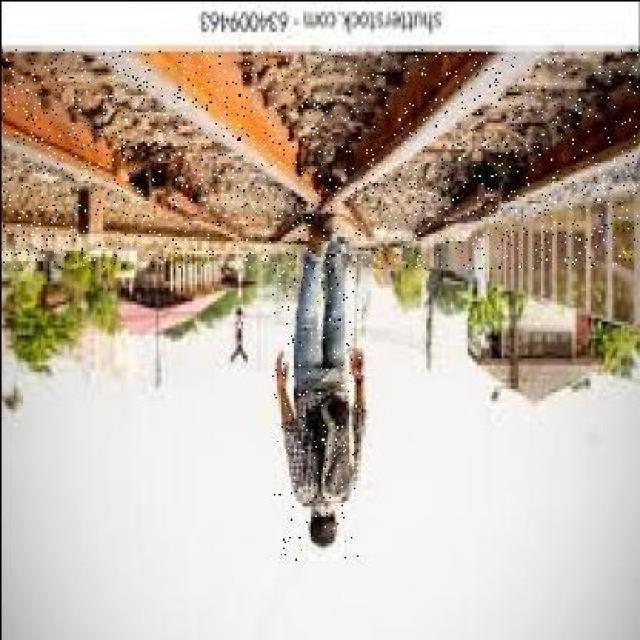danger: (270, 219, 358, 558)
rail: (2, 48, 637, 267)
